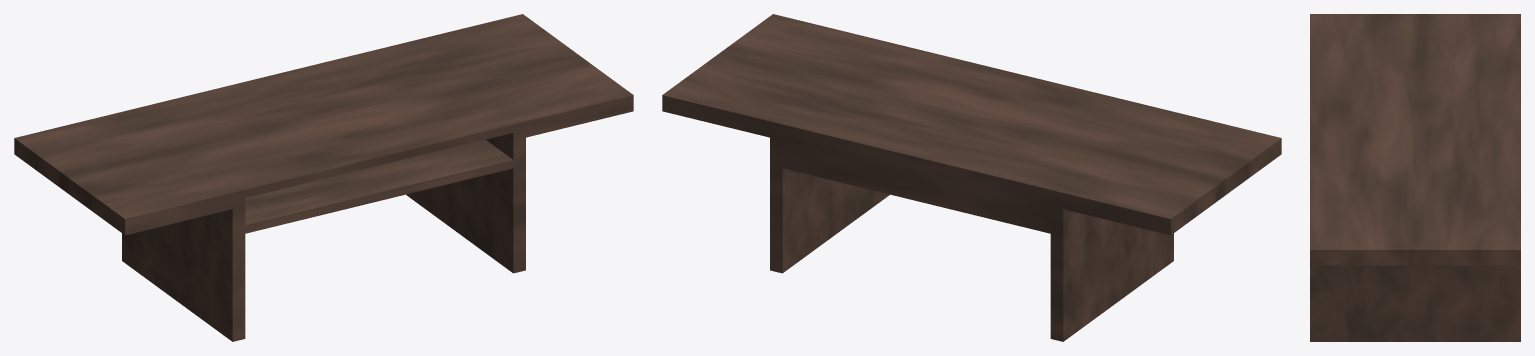
The model's file is fudukue.fbx.
The picture shows the model from 3 angles, left to right: view 1: azimuth 30°, elevation 25°; view 2: azimuth 150°, elevation 25°; view 3: azimuth 270°, elevation 25°; orthographic projection. The views are drawn at different scales.
Visible parts, largest first — view 1: fudukue; view 2: fudukue; view 3: fudukue.
Boxes of the visible parts, left/top/right/bottom form: fudukue: left=14, top=14, right=633, bottom=341; fudukue: left=662, top=14, right=1281, bottom=341; fudukue: left=1310, top=14, right=1520, bottom=341.
Size of the model in its own units: 1.02 by 0.2856 by 0.385.
